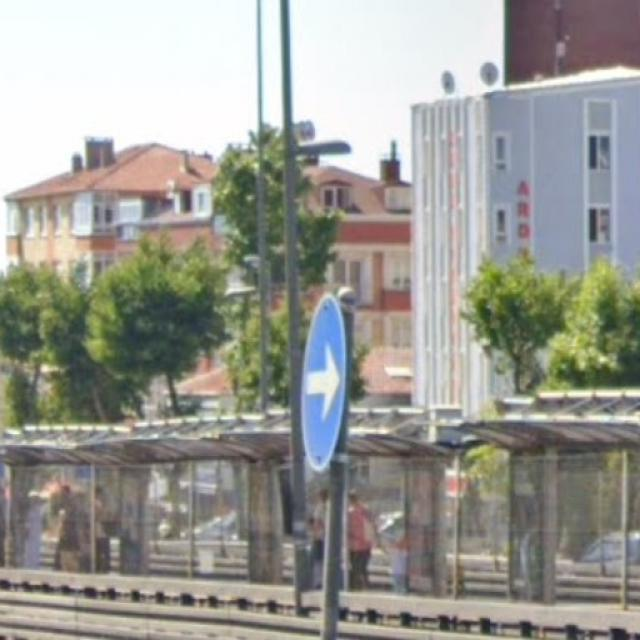Turn Right: (292, 290, 357, 467)
